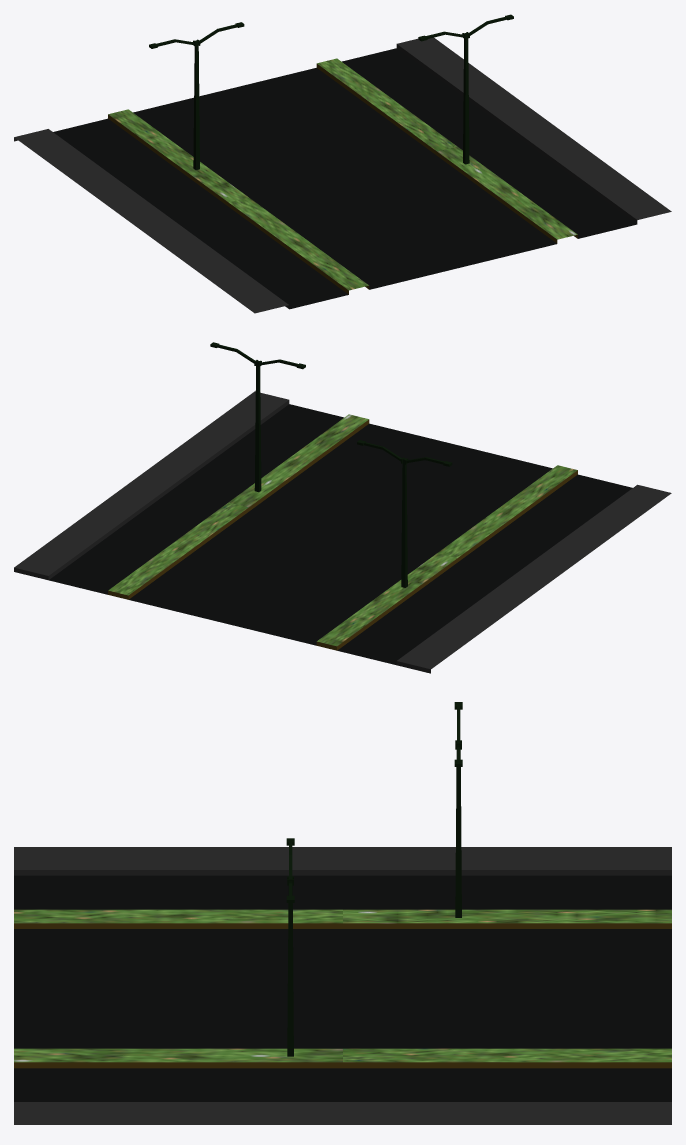
Rendered from 02_main.obj.
3 renders of one model, top to bottom at view 1: azimuth 30°, elevation 25°; view 2: azimuth 150°, elevation 25°; view 3: azimuth 270°, elevation 25°, orthographic. The views are drawn at different scales.
Visible parts, largest first — view 1: 02_main_Plane.009; view 2: 02_main_Plane.009; view 3: 02_main_Plane.009.
Boxes of the visible parts, left/top/right/bottom form: 02_main_Plane.009: left=14, top=14, right=671, bottom=313; 02_main_Plane.009: left=14, top=342, right=671, bottom=673; 02_main_Plane.009: left=14, top=702, right=671, bottom=1124.
Bounding box in the file's own units: 4.48 × 1.44 × 4.48.
